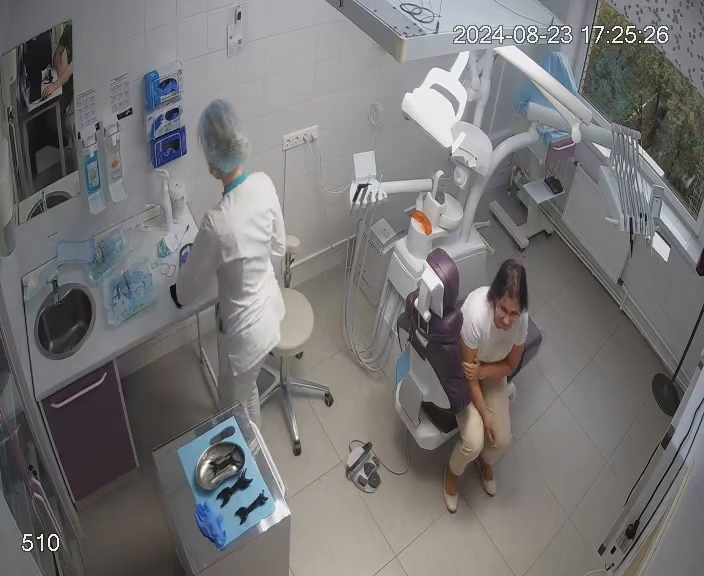Empty: (387, 245, 551, 510)
